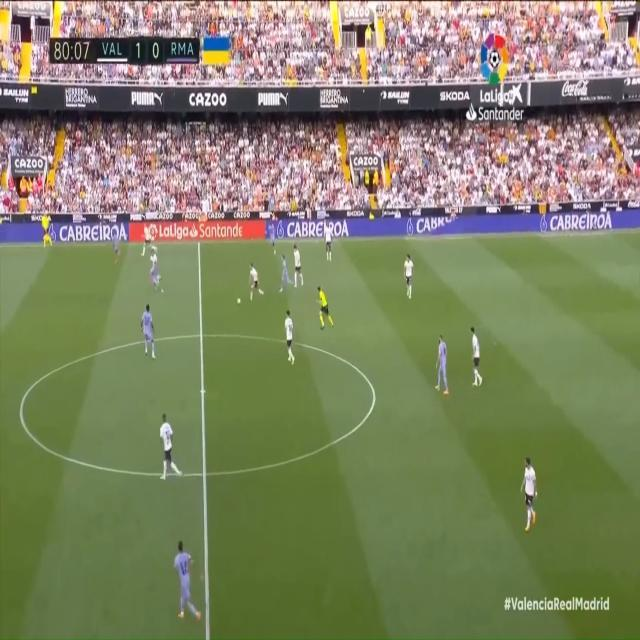ball: (237, 294, 244, 308)
player: (172, 534, 204, 624), (158, 411, 184, 487), (518, 452, 540, 535), (466, 322, 487, 391), (434, 332, 452, 400), (139, 301, 159, 362), (282, 307, 299, 369), (245, 260, 266, 304), (148, 248, 164, 296), (402, 254, 417, 304), (321, 220, 337, 264), (139, 224, 157, 261), (278, 252, 294, 292), (291, 243, 304, 292), (111, 225, 121, 274), (265, 215, 277, 254)
referee: (314, 283, 335, 333), (40, 206, 56, 249)
